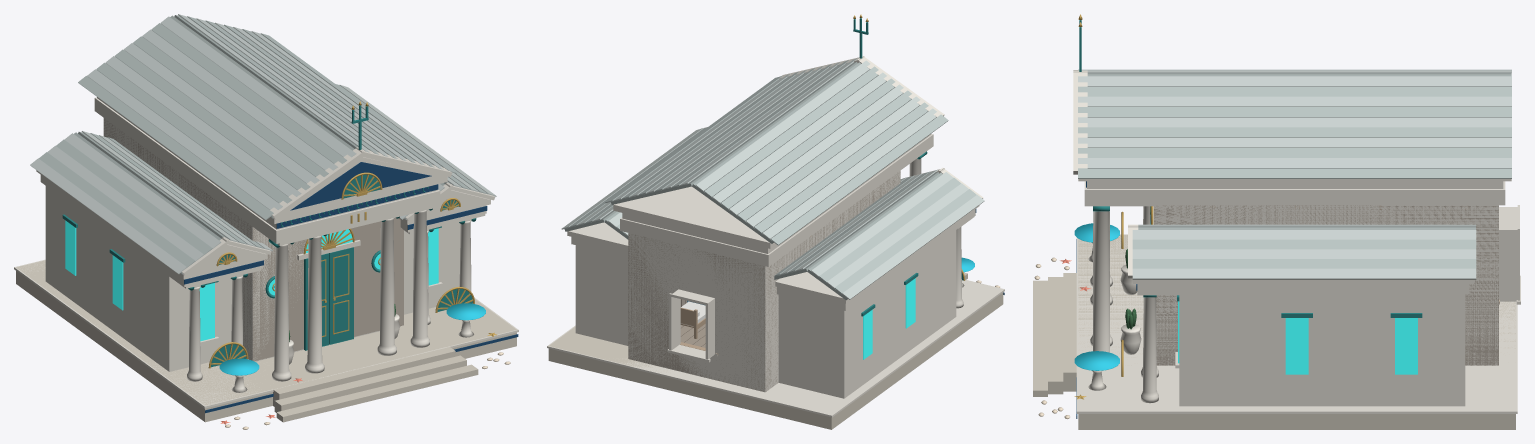
Rendered from poseidon_cabin.glb.
3 renders of one model, left to right at view 1: azimuth 30°, elevation 25°; view 2: azimuth 150°, elevation 25°; view 3: azimuth 270°, elevation 25°, orthographic. The views are drawn at different scales.
Parts seen in each view (by area): view 1: POS_marble, POS_roof_tile_a, POS_roof_tile_b, POS_marble_step, INT_wood_wall, POS_deep_blue, POS_roof_deck, POS_sea_glass, POS_sea_bronze, POS_gold, DOOR_leaf_R, POS_water (+1 smaller); view 2: POS_marble, POS_roof_tile_a, POS_roof_tile_b, POS_marble_step, INT_wood_wall, POS_roof_deck, POS_sea_glass, INT_wood_bed, INT_wood_floor, POS_sea_bronze; view 3: POS_marble, POS_roof_tile_a, POS_roof_tile_b, POS_marble_step, INT_wood_wall, POS_roof_deck, POS_sea_glass, WIN_back_reveal_R, POS_water, POS_sea_bronze.
Part boxes in pixels (x1,y1,x2,y2): POS_marble: (14, 97, 518, 408); POS_roof_tile_a: (30, 14, 496, 273); POS_roof_tile_b: (39, 16, 487, 267); POS_marble_step: (16, 260, 516, 422); INT_wood_wall: (103, 119, 403, 361); POS_deep_blue: (184, 162, 518, 413); POS_roof_deck: (74, 15, 450, 274); POS_sea_glass: (65, 220, 438, 341); POS_sea_bronze: (62, 105, 476, 367); POS_gold: (208, 101, 496, 368); DOOR_leaf_R: (329, 249, 352, 344); POS_water: (219, 303, 485, 375); POS_marble: (547, 56, 1004, 417); POS_roof_tile_a: (561, 58, 984, 299); POS_roof_tile_b: (569, 60, 976, 293); POS_marble_step: (548, 272, 1003, 429); INT_wood_wall: (628, 171, 900, 391); POS_roof_deck: (564, 62, 942, 300); POS_sea_glass: (863, 278, 915, 359); INT_wood_bed: (680, 235, 811, 354); INT_wood_floor: (630, 324, 777, 391); POS_sea_bronze: (853, 18, 963, 316); POS_marble: (1073, 70, 1517, 413); POS_roof_tile_a: (1078, 70, 1511, 279); POS_roof_tile_b: (1078, 69, 1511, 268); POS_marble_step: (1033, 235, 1515, 429); INT_wood_wall: (1154, 205, 1498, 364); POS_roof_deck: (1087, 72, 1511, 229); POS_sea_glass: (1178, 301, 1417, 374); WIN_back_reveal_R: (1499, 230, 1517, 299); POS_water: (1074, 223, 1119, 370); POS_sea_bronze: (1079, 20, 1422, 317).
Size of what is drawn, in the model's own units: 10.11 by 8.59 by 11.6.
